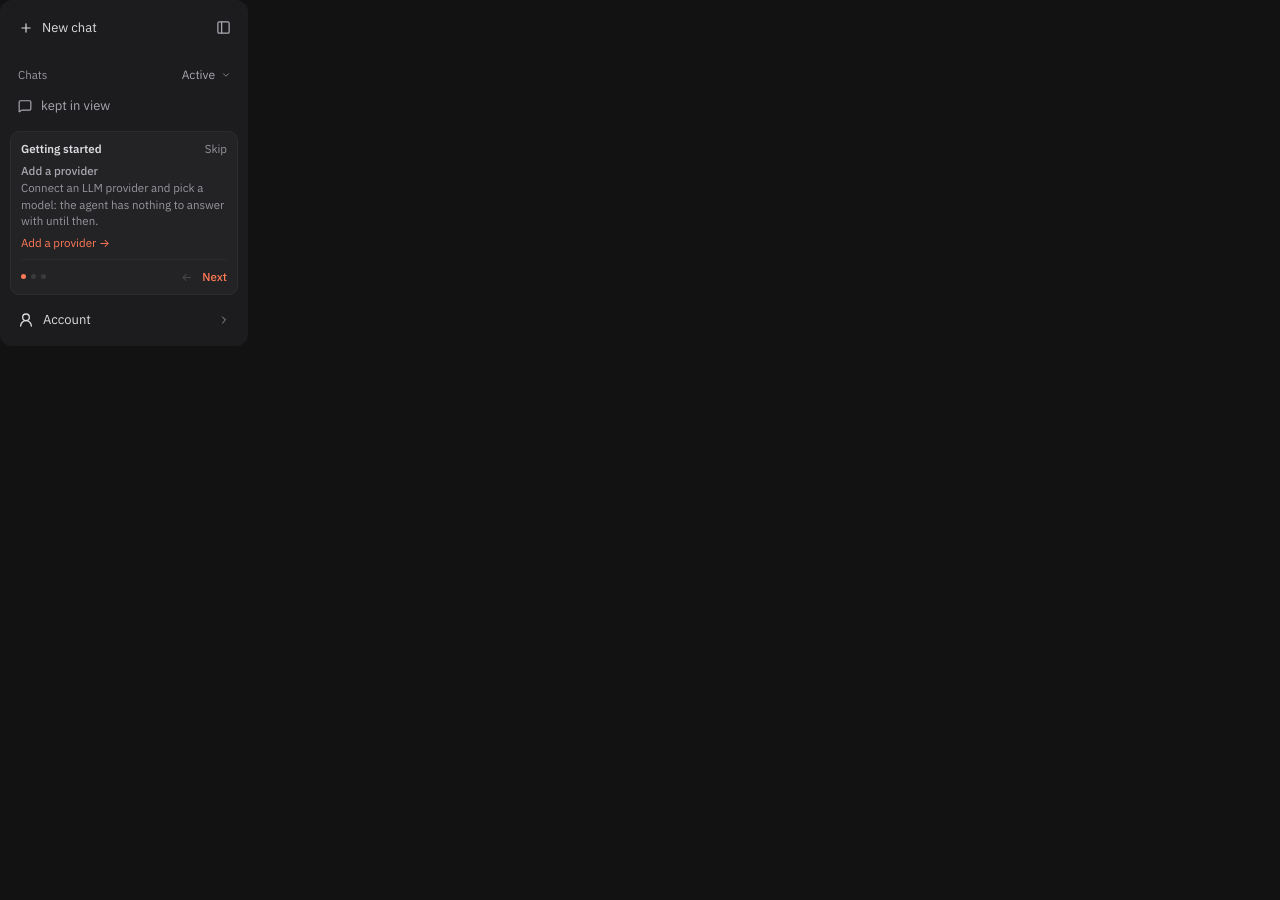
Test case: the account menu › opens the keyboard shortcuts, and Escape closes them
The image size is (1280, 900).
Click the button "Account". click: (124,320)
box: [10, 303, 238, 336]
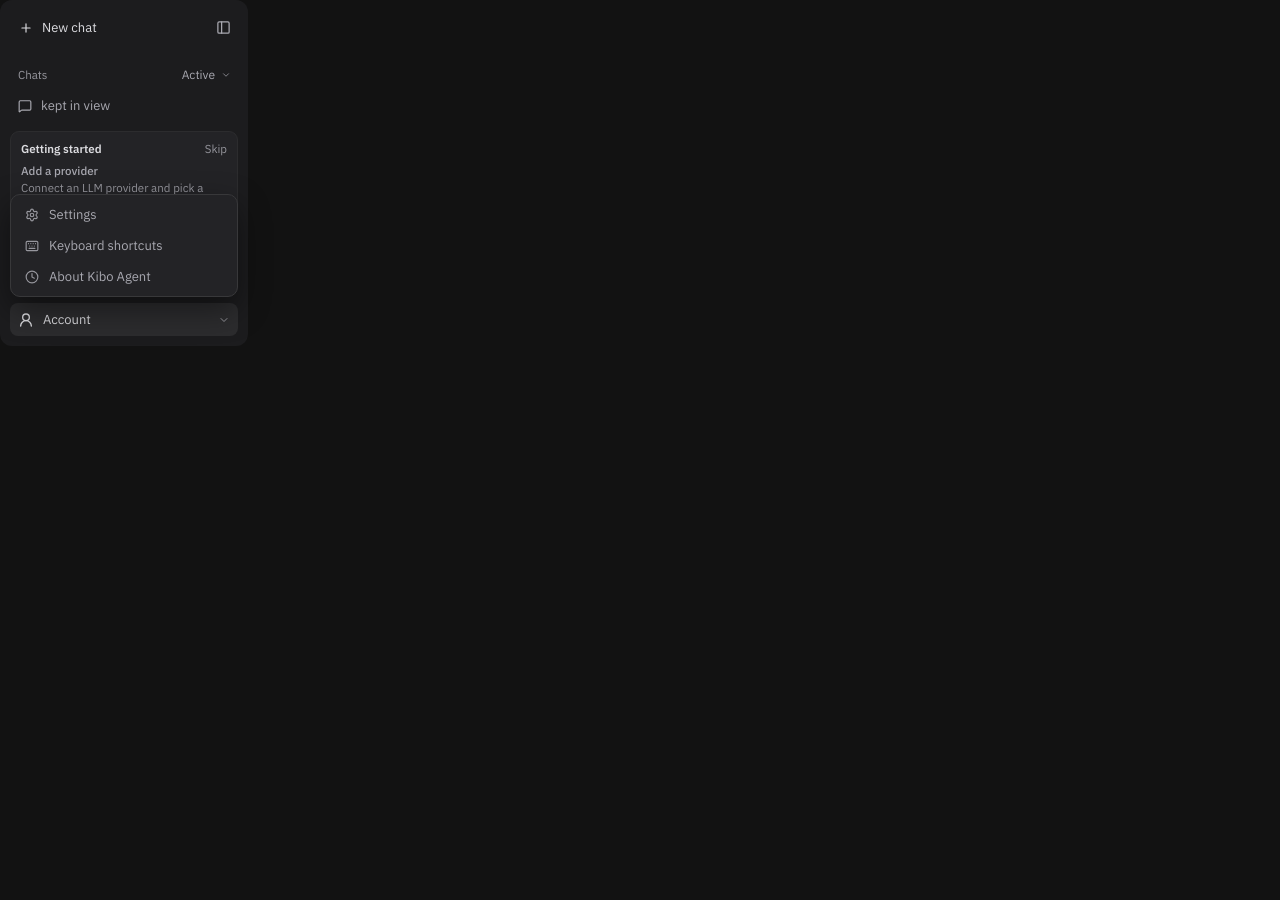
Click the menu item "Keyboard shortcuts". click: (124,246)
box: [15, 230, 233, 261]
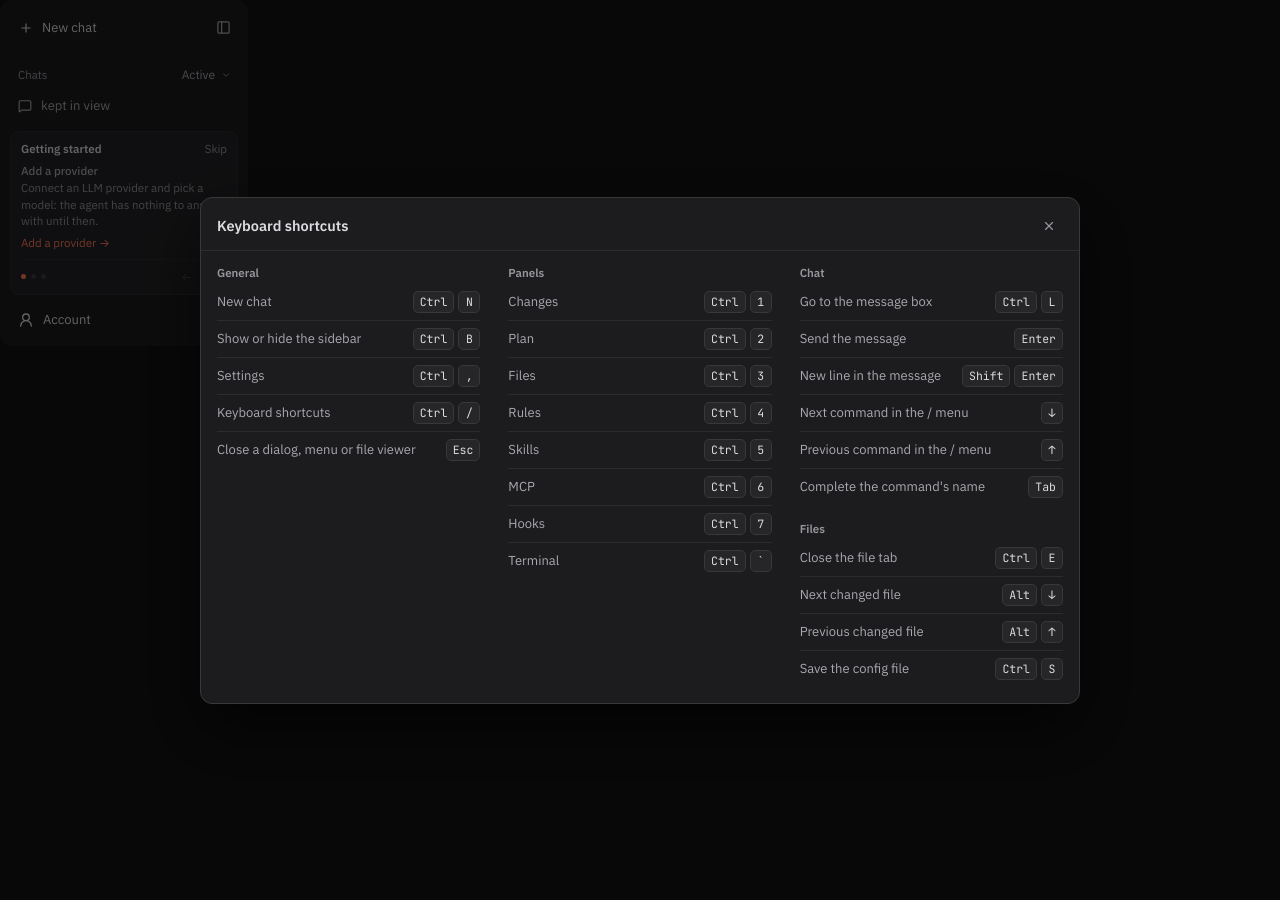
Check: the dialog "Keyboard shortcuts" is shown, box [200, 196, 1080, 704]
Check: the text "Show or hide the sidebar" is shown, box [217, 330, 361, 347]
Press Escape
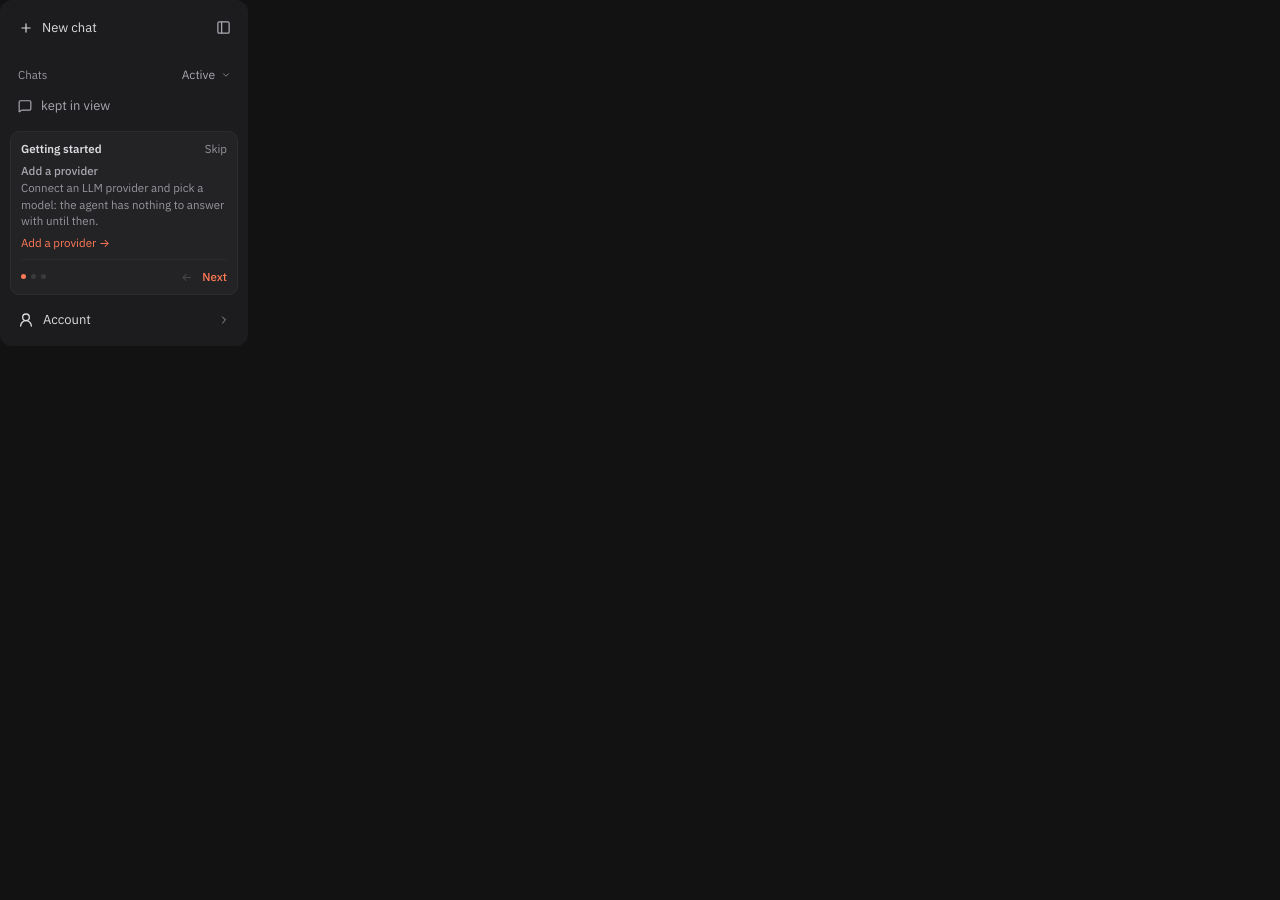
Check: the dialog is gone
